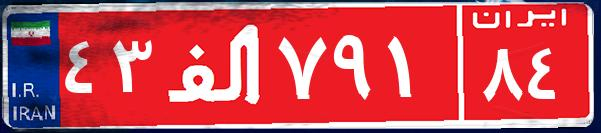1: (385, 28, 445, 110)
3: (110, 28, 158, 105)
4: (57, 26, 110, 107), (525, 38, 570, 115)
7: (273, 28, 330, 110)
8: (475, 38, 525, 113)
9: (330, 28, 385, 110)
الف: (158, 15, 273, 115)
